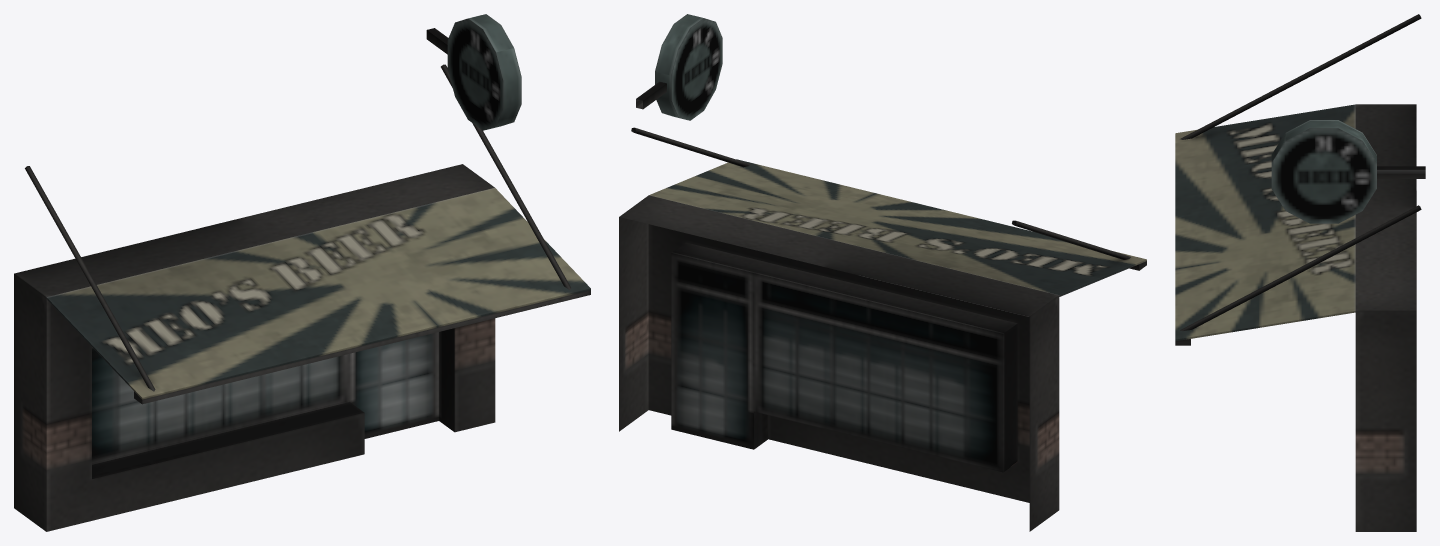
Rendered from B4_BeerPub.FBX.
The picture shows the model from 3 angles, left to right: view 1: azimuth 30°, elevation 25°; view 2: azimuth 150°, elevation 25°; view 3: azimuth 270°, elevation 25°; orthographic projection. The views are drawn at different scales.
Parts seen in each view (by area): view 1: B4_BeerPub; view 2: B4_BeerPub; view 3: B4_BeerPub.
Part boxes in pixels (box(x1,y1,x2,y2)): B4_BeerPub: box(14, 14, 590, 531); B4_BeerPub: box(619, 14, 1146, 531); B4_BeerPub: box(1175, 14, 1425, 531).
Bounding box in the file's own units: 8 × 7.15 × 4.11.
